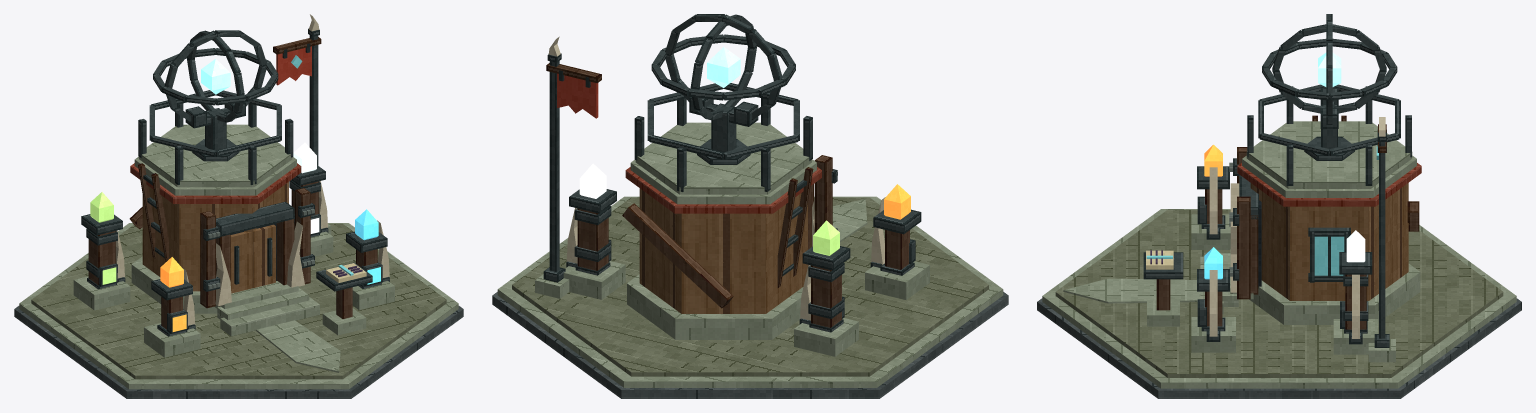
The model's file is orc_elemental_observatory_hex_v1.glb.
3 renders of one model, left to right at view 1: azimuth 30°, elevation 25°; view 2: azimuth 150°, elevation 25°; view 3: azimuth 270°, elevation 25°, orthographic. The views are drawn at different scales.
Parts seen in each view (by area): view 1: Orc_Elemental_Observatory_Hex_V1_Foundation, Orc_Elemental_Observatory_Hex_V1_Focus, Orc_Elemental_Observatory_Hex_V1_Roofs, Orc_Elemental_Observatory_Hex_V1_Hall, Orc_Elemental_Observatory_Hex_V1_Details, Orc_Elemental_Observatory_Hex_V1_Courtyard, Orc_Elemental_Observatory_Hex_V1_Training, Orc_Elemental_Observatory_Hex_V1_Faction; view 2: Orc_Elemental_Observatory_Hex_V1_Foundation, Orc_Elemental_Observatory_Hex_V1_Focus, Orc_Elemental_Observatory_Hex_V1_Hall, Orc_Elemental_Observatory_Hex_V1_Roofs, Orc_Elemental_Observatory_Hex_V1_Details, Orc_Elemental_Observatory_Hex_V1_Faction, Orc_Elemental_Observatory_Hex_V1_Courtyard; view 3: Orc_Elemental_Observatory_Hex_V1_Foundation, Orc_Elemental_Observatory_Hex_V1_Focus, Orc_Elemental_Observatory_Hex_V1_Hall, Orc_Elemental_Observatory_Hex_V1_Roofs, Orc_Elemental_Observatory_Hex_V1_Details, Orc_Elemental_Observatory_Hex_V1_Courtyard, Orc_Elemental_Observatory_Hex_V1_Training, Orc_Elemental_Observatory_Hex_V1_Faction.
Boxes of the visible parts, bbox=[...] form: Orc_Elemental_Observatory_Hex_V1_Foundation: bbox=[14, 223, 463, 398]; Orc_Elemental_Observatory_Hex_V1_Focus: bbox=[73, 30, 394, 357]; Orc_Elemental_Observatory_Hex_V1_Roofs: bbox=[130, 90, 301, 203]; Orc_Elemental_Observatory_Hex_V1_Hall: bbox=[131, 182, 294, 313]; Orc_Elemental_Observatory_Hex_V1_Details: bbox=[115, 163, 389, 325]; Orc_Elemental_Observatory_Hex_V1_Courtyard: bbox=[214, 281, 340, 372]; Orc_Elemental_Observatory_Hex_V1_Training: bbox=[102, 218, 380, 335]; Orc_Elemental_Observatory_Hex_V1_Faction: bbox=[273, 14, 331, 234]; Orc_Elemental_Observatory_Hex_V1_Foundation: bbox=[492, 196, 1008, 398]; Orc_Elemental_Observatory_Hex_V1_Focus: bbox=[563, 14, 929, 356]; Orc_Elemental_Observatory_Hex_V1_Hall: bbox=[627, 184, 813, 339]; Orc_Elemental_Observatory_Hex_V1_Roofs: bbox=[625, 83, 821, 213]; Orc_Elemental_Observatory_Hex_V1_Details: bbox=[566, 155, 885, 320]; Orc_Elemental_Observatory_Hex_V1_Faction: bbox=[535, 36, 601, 298]; Orc_Elemental_Observatory_Hex_V1_Courtyard: bbox=[832, 199, 867, 242]; Orc_Elemental_Observatory_Hex_V1_Foundation: bbox=[1037, 209, 1521, 398]; Orc_Elemental_Observatory_Hex_V1_Focus: bbox=[1191, 14, 1397, 354]; Orc_Elemental_Observatory_Hex_V1_Hall: bbox=[1239, 175, 1420, 324]; Orc_Elemental_Observatory_Hex_V1_Roofs: bbox=[1237, 84, 1421, 206]; Orc_Elemental_Observatory_Hex_V1_Details: bbox=[1209, 115, 1419, 338]; Orc_Elemental_Observatory_Hex_V1_Courtyard: bbox=[1063, 249, 1253, 314]; Orc_Elemental_Observatory_Hex_V1_Training: bbox=[1143, 250, 1183, 326]; Orc_Elemental_Observatory_Hex_V1_Faction: bbox=[1368, 117, 1395, 362].
Size of the model in its own units: 1.59 by 1.21 by 1.84.
Materials: 1 (1 with a texture image).
